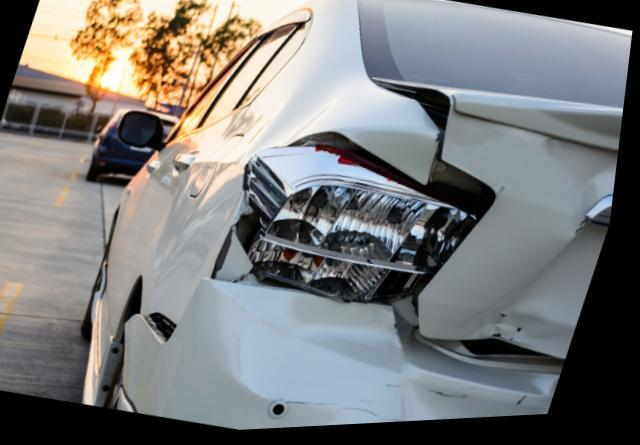crack: (218, 225, 242, 282), (581, 226, 595, 242)
dent: (236, 291, 568, 429), (473, 293, 556, 350)
dislocated part: (371, 81, 509, 342), (151, 310, 190, 349)
lamp broken: (246, 148, 488, 310)
